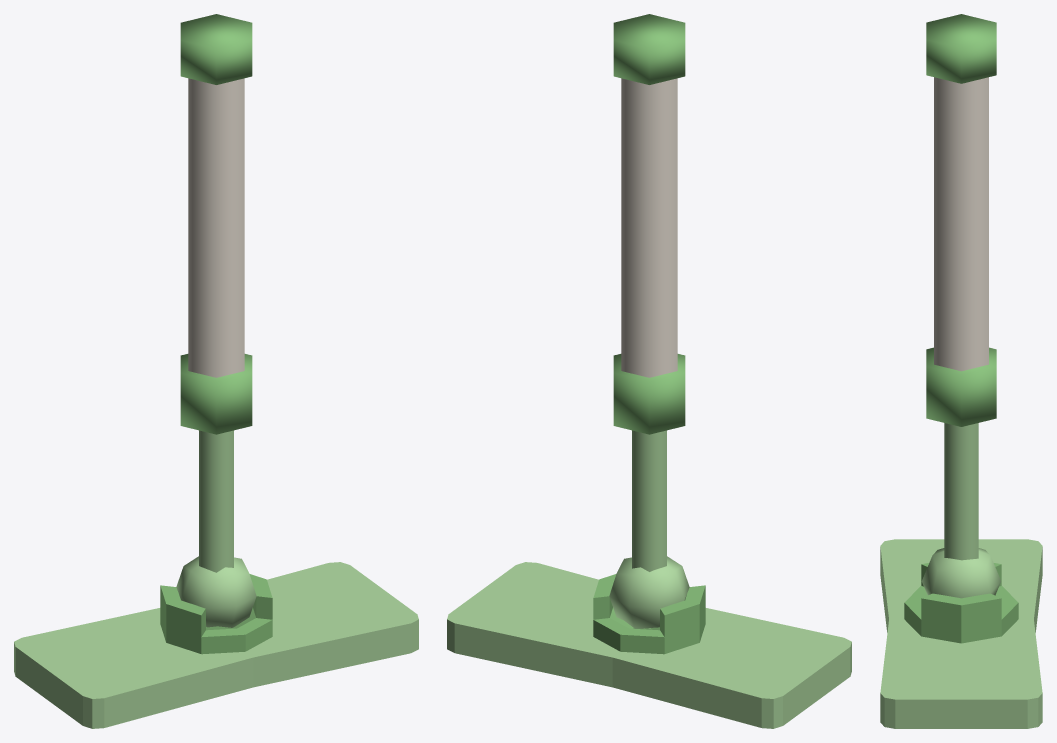
The model's file is Wiper_sponge_geo.fbx.
3 views of the same model, side by side, from view 1: azimuth 30°, elevation 25°; view 2: azimuth 150°, elevation 25°; view 3: azimuth 270°, elevation 25° (orthographic).
Visible parts, largest first — view 1: Wiper_sponge_geo, Wiper_handle_geo; view 2: Wiper_sponge_geo, Wiper_handle_geo; view 3: Wiper_handle_geo, Wiper_sponge_geo.
Part boxes in pixels (x1,y1,x2,y2): Wiper_sponge_geo: (14, 562, 418, 728); Wiper_handle_geo: (176, 14, 256, 627); Wiper_sponge_geo: (447, 562, 851, 728); Wiper_handle_geo: (609, 14, 689, 628); Wiper_handle_geo: (921, 14, 1001, 598); Wiper_sponge_geo: (880, 539, 1042, 728).
Bounding box in the file's own units: 0.4684 × 0.2003 × 0.8415.
